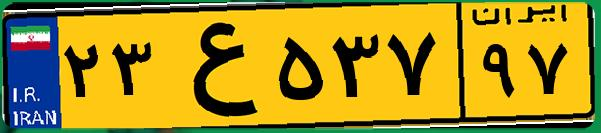2: (57, 26, 110, 100)
3: (330, 28, 385, 110), (110, 28, 158, 98)
5: (270, 28, 330, 110)
7: (385, 28, 445, 110), (525, 38, 570, 115)
9: (475, 38, 525, 113)
ع: (158, 12, 270, 120)
